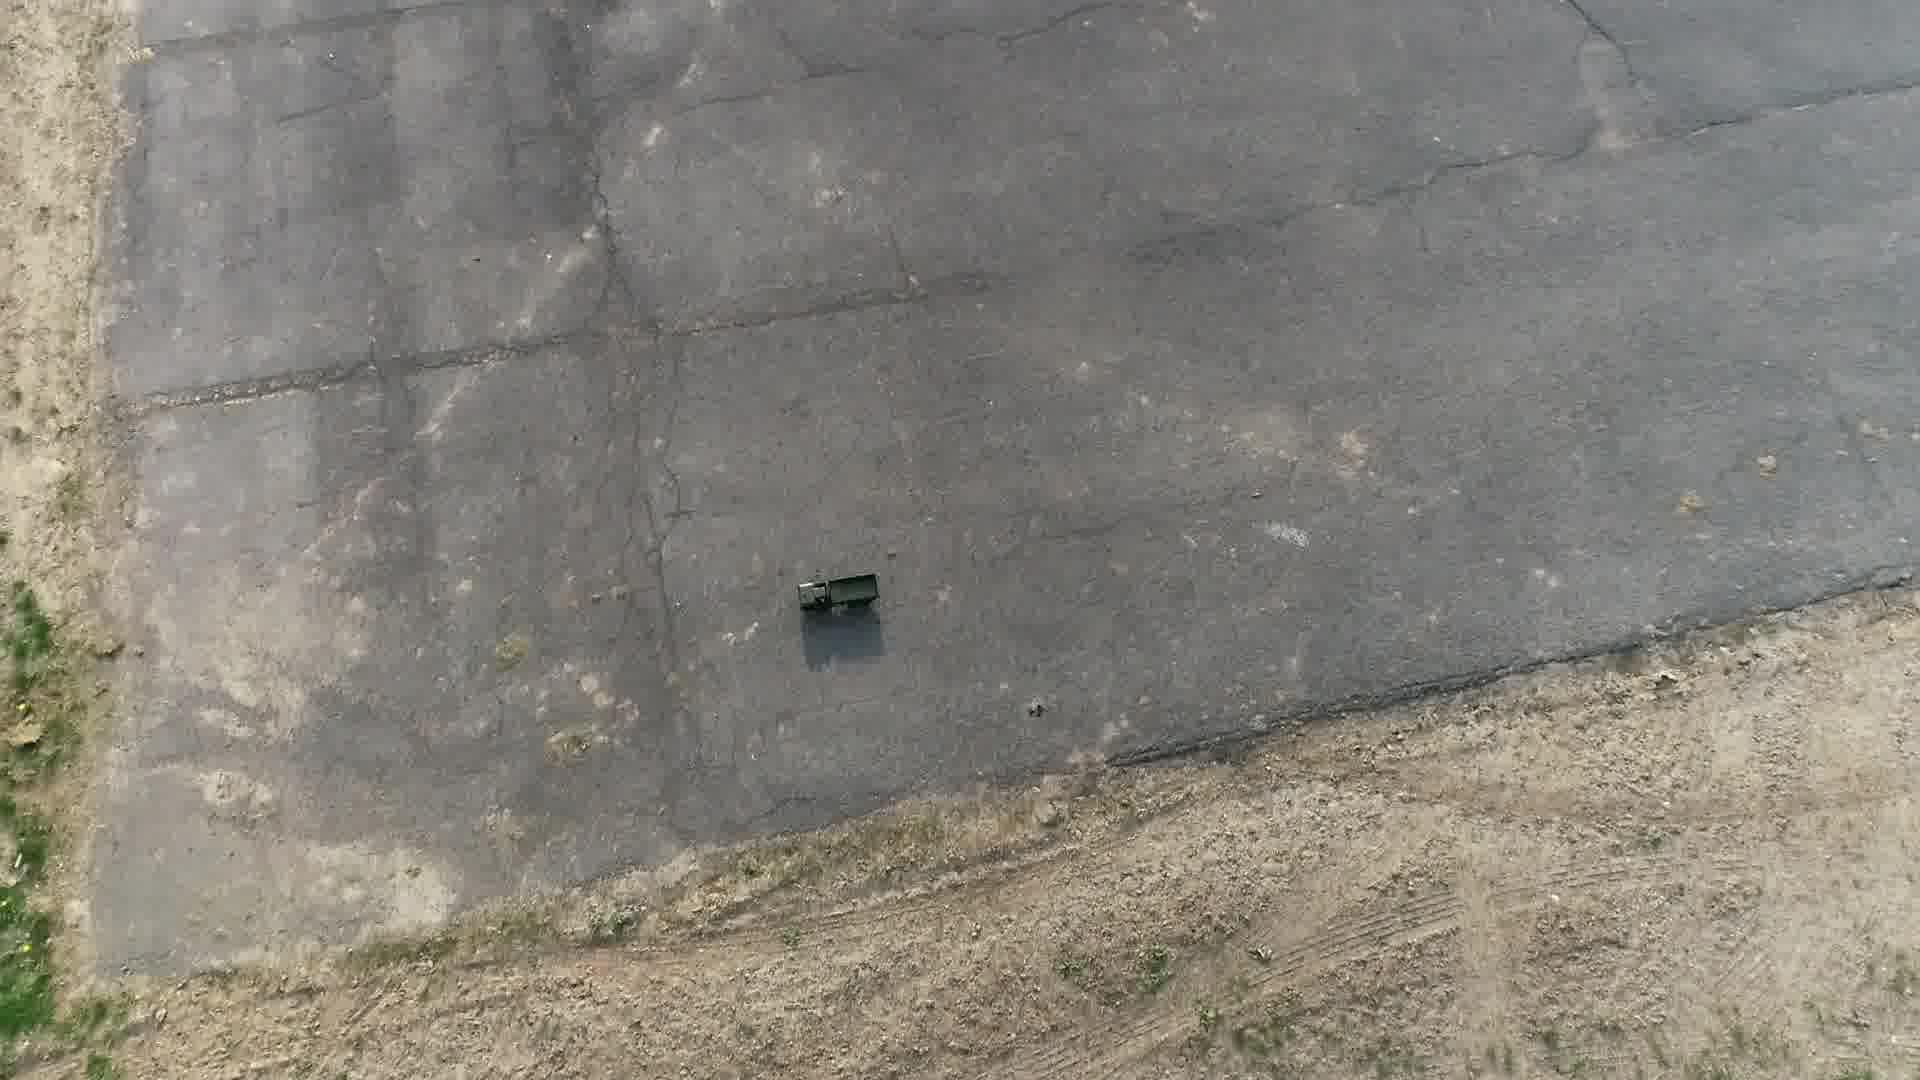transporter9: (794, 568, 885, 616)
